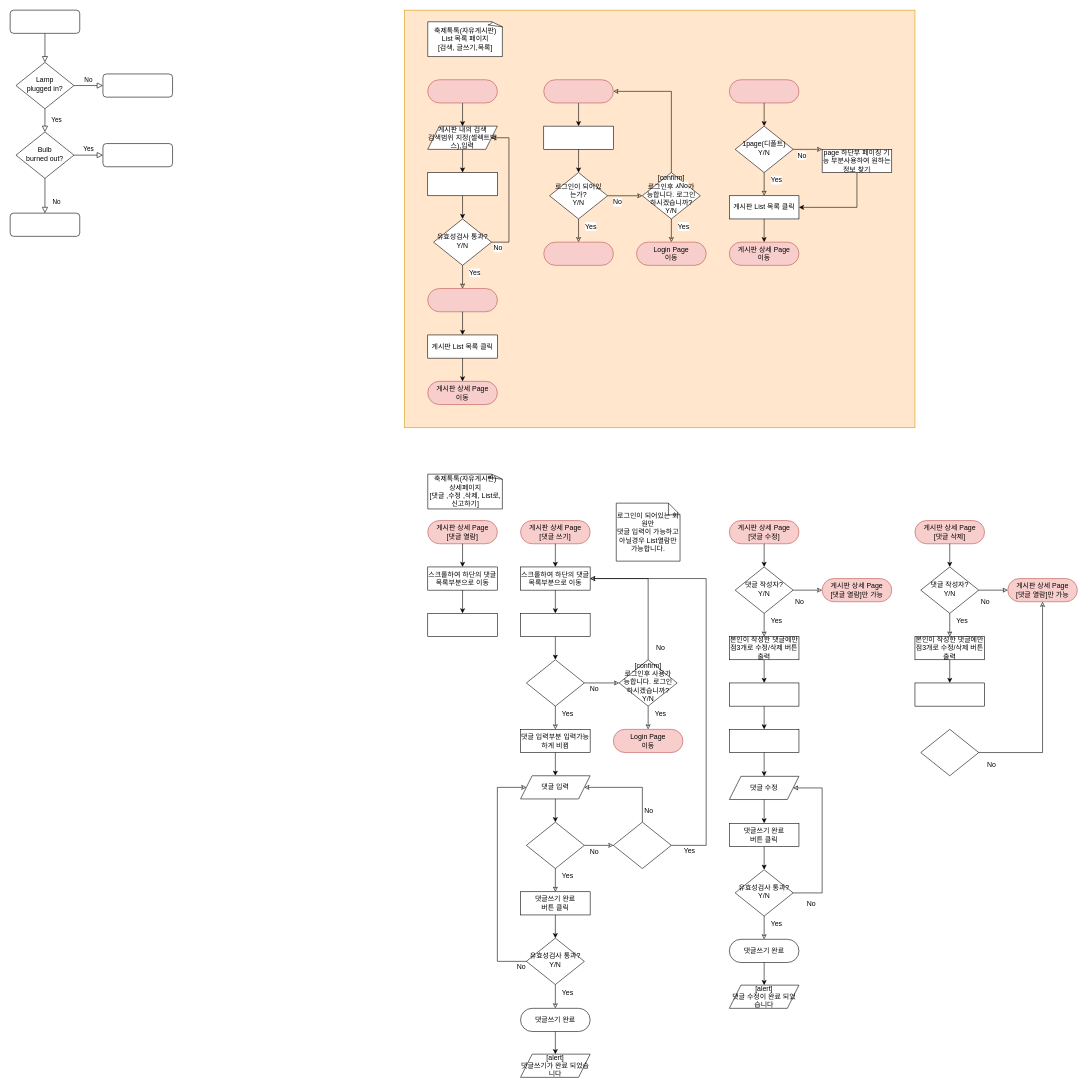
The diagram is 1088 pixels wide and 1088 high, and some of its shapes have lost their labels. The shapes that lost their labels are listed below. From the top down, each one's centre as x and y in pixels, then its label:
At point (45, 21): "Lamp doesn't work".
At point (137, 85): "Plug in lamp".
At point (462, 91): "자유게시판 List Page [검색]".
At point (578, 91): "자유게시판 List Page [글쓰기]".
At point (764, 91): "자유게시판 List Page [상세Page]".
At point (137, 155): "Replace Bulb".
At point (578, 137): "글쓰기 버튼 클릭".
At point (462, 184): "검색하기 버튼 클릭".
At point (45, 224): "Repair Lamp".
At point (578, 253): "글쓰기 Page 이동".
At point (462, 300): "검색어로 정렬된 List로 이동".
At point (462, 625): "스크롤하여 댓글 더 보기 가능".
At point (555, 625): "댓글 입력부분 클릭".
At point (555, 682): "로그인? Y/N".
At point (764, 694): "수정버튼 클릭".
At point (949, 694): "삭제버튼 클릭".
At point (764, 741): "디폴트값으로 수정전의 댓글표시에서 수정".
At point (949, 752): "[confirm] 댓글을 삭제하시겠습니까? Y/N".
At point (555, 845): "댓글 완료? Y/N".
At point (642, 845): "[confirm] 댓글쓰기를 취소하시겠습니까? Y/N".
